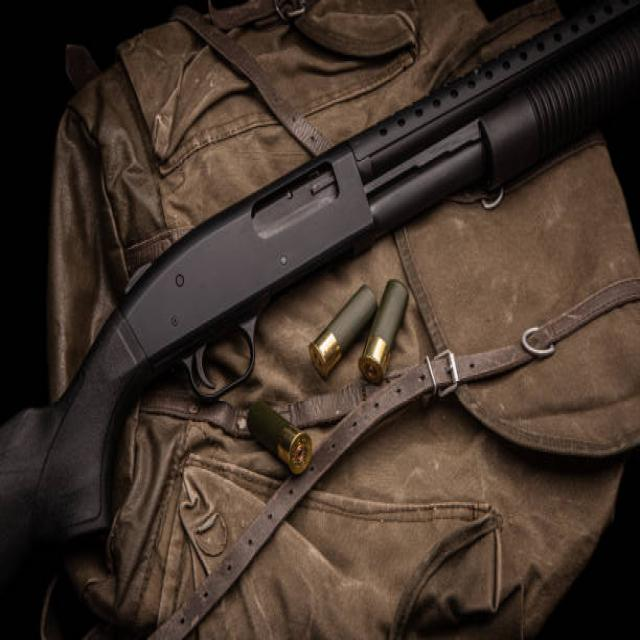ShotGun: (0, 2, 640, 593)
